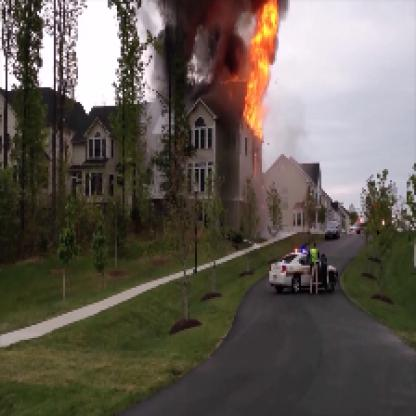Fire: (216, 2, 278, 139)
Smoke: (146, 2, 252, 119)
